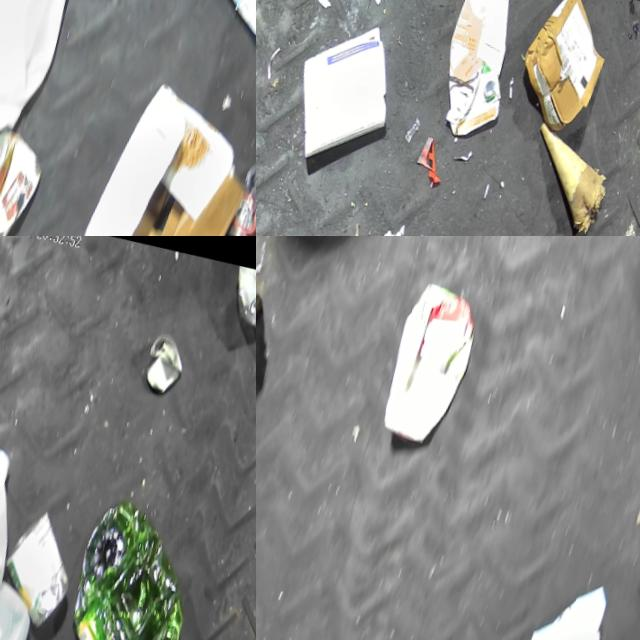can: (0, 507, 86, 640), (0, 121, 51, 236), (135, 331, 192, 405), (217, 153, 256, 236)
milk_jug: (372, 278, 488, 454), (0, 0, 93, 149)
non_white_jug: (426, 0, 534, 148)
